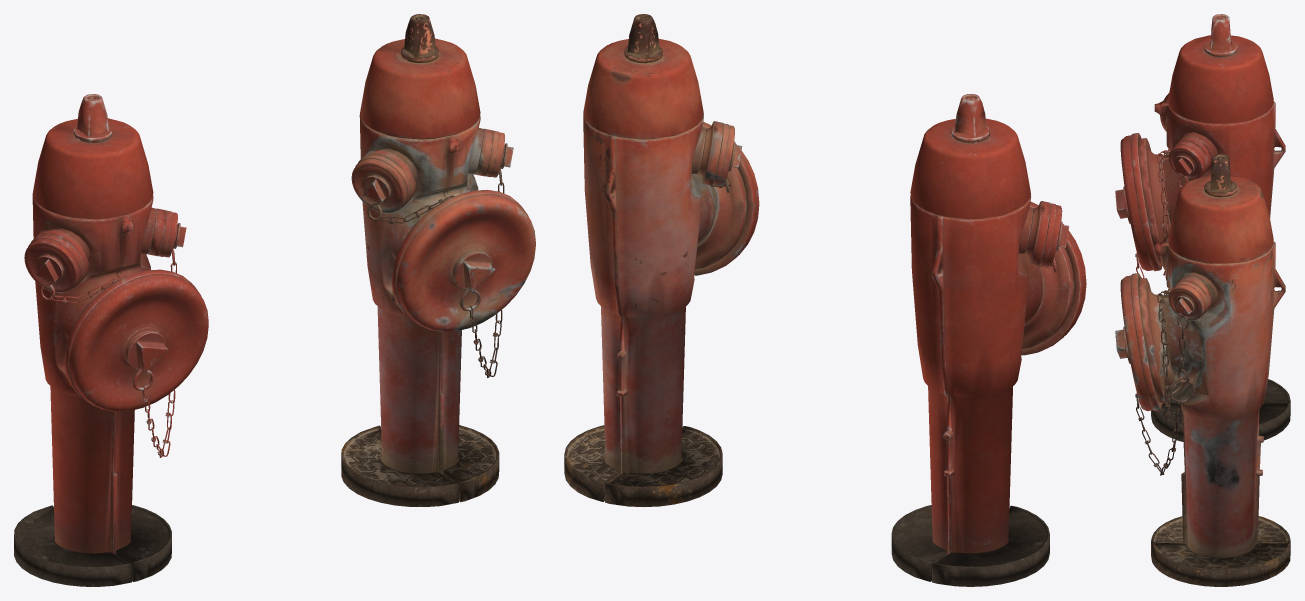
Rendered from fire_hydrant_1k.gltf.
The picture shows the model from 3 angles, left to right: view 1: azimuth 30°, elevation 25°; view 2: azimuth 150°, elevation 25°; view 3: azimuth 270°, elevation 25°; orthographic projection. The views are drawn at different scales.
Parts seen in each view (by area): view 1: fire_hydrant_aged, fire_hydrant, fire_hydrant_cap_01, fire_hydrant_cap_01_aged, fire_hydrant_cap_03, fire_hydrant_cap_03_aged, fire_hydrant_chain, fire_hydrant_chain_aged, fire_hydrant_cap_02, fire_hydrant_cap_02_aged; view 2: fire_hydrant, fire_hydrant_aged, fire_hydrant_cap_01, fire_hydrant_cap_01_aged, fire_hydrant_cap_03_aged, fire_hydrant_cap_03; view 3: fire_hydrant_aged, fire_hydrant, fire_hydrant_cap_01_aged, fire_hydrant_cap_01, fire_hydrant_chain_aged, fire_hydrant_cap_02_aged, fire_hydrant_cap_02, fire_hydrant_chain.
Part boxes in pixels (x1,y1,x2,y2): fire_hydrant_aged: (341,14,499,506); fire_hydrant: (14,94,171,586); fire_hydrant_cap_01: (64,269,208,411); fire_hydrant_cap_01_aged: (391,190,535,331); fire_hydrant_cap_03: (24,235,83,293); fire_hydrant_cap_03_aged: (351,155,410,213); fire_hydrant_chain: (40,224,177,457); fire_hydrant_chain_aged: (367,145,504,377); fire_hydrant_cap_02: (158,210,186,257); fire_hydrant_cap_02_aged: (485,131,513,177); fire_hydrant: (891,94,1074,586); fire_hydrant_aged: (564,14,747,507); fire_hydrant_cap_01: (1021,202,1086,355); fire_hydrant_cap_01_aged: (694,122,759,275); fire_hydrant_cap_03_aged: (712,123,742,186); fire_hydrant_cap_03: (1039,203,1069,266); fire_hydrant_aged: (1138,154,1290,586); fire_hydrant: (1138,14,1290,441); fire_hydrant_cap_01_aged: (1115,273,1162,411); fire_hydrant_cap_01: (1115,133,1161,271); fire_hydrant_chain_aged: (1135,289,1195,475); fire_hydrant_cap_02_aged: (1168,281,1208,320); fire_hydrant_cap_02: (1168,141,1208,180); fire_hydrant_chain: (1135,149,1193,280).
Bounding box in the file's own units: 0.8746 × 0.7994 × 0.3175.
Materials: 2 (2 with a texture image).
